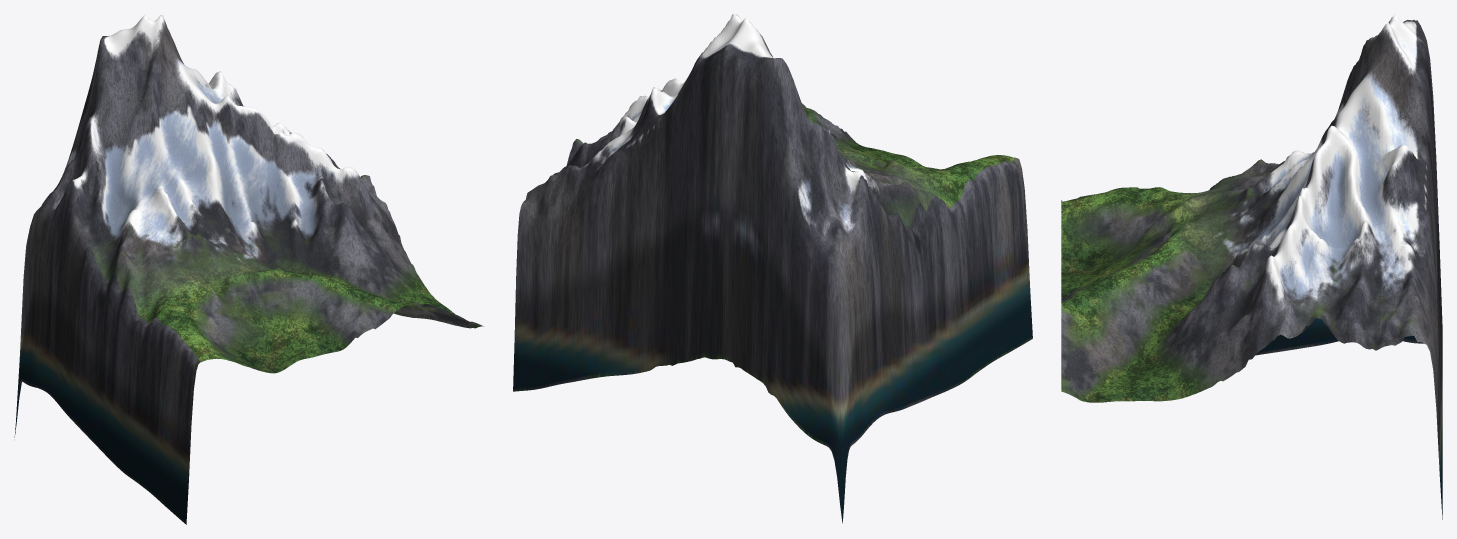
The picture shows the model from 3 angles, left to right: view 1: azimuth 30°, elevation 25°; view 2: azimuth 150°, elevation 25°; view 3: azimuth 270°, elevation 25°; orthographic projection. The views are drawn at different scales.
Parts seen in each view (by area): view 1: t000_192; view 2: t000_192; view 3: t000_192.
Boxes of the visible parts, x1=… form: t000_192: x1=14, y1=14, x2=483, y2=524; t000_192: x1=513, y1=14, x2=1032, y2=523; t000_192: x1=1061, y1=14, x2=1442, y2=519.
Bounding box in the file's own units: 64 × 85.44 × 64.
Materials: 1 (1 with a texture image).
